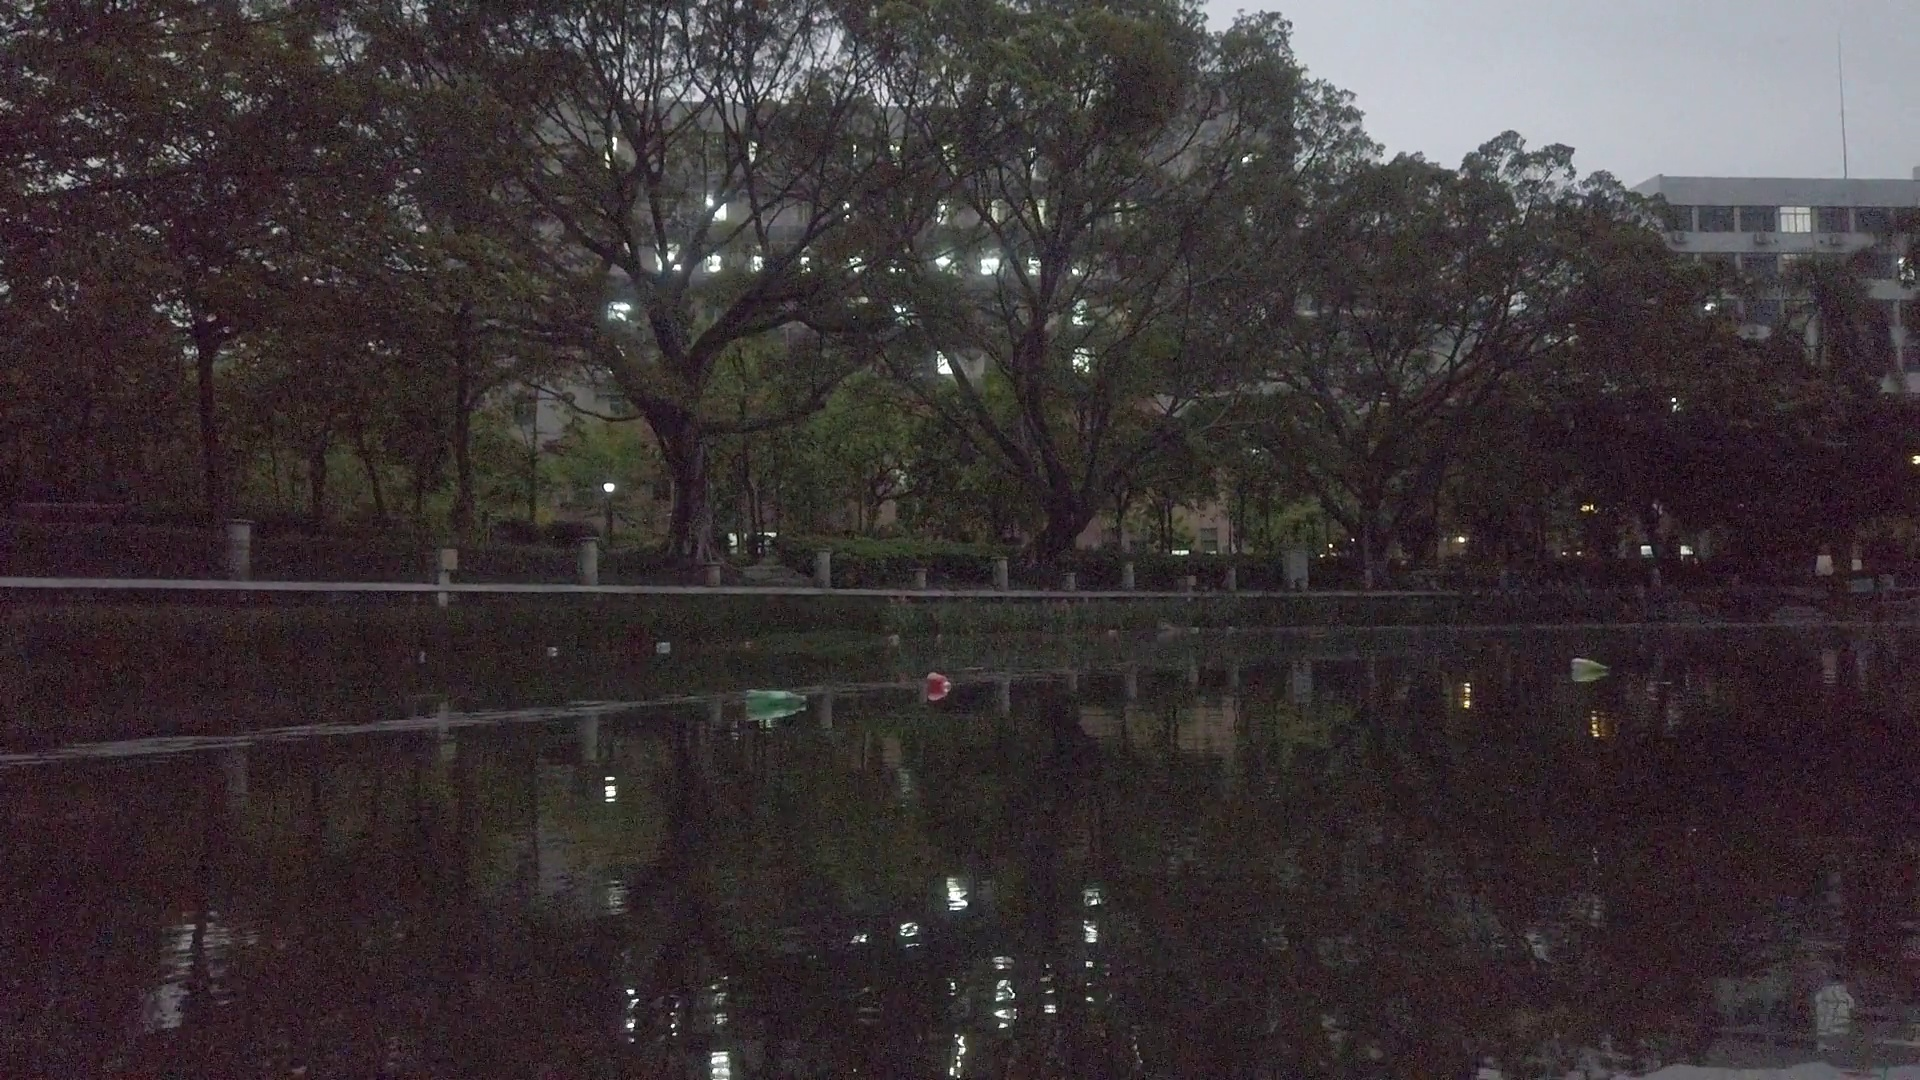bottle: (744, 690, 808, 712), (1569, 658, 1611, 675), (923, 671, 953, 694), (741, 638, 760, 651), (545, 640, 559, 655), (886, 630, 899, 644), (1104, 628, 1120, 637)
carton: (655, 640, 673, 655)
